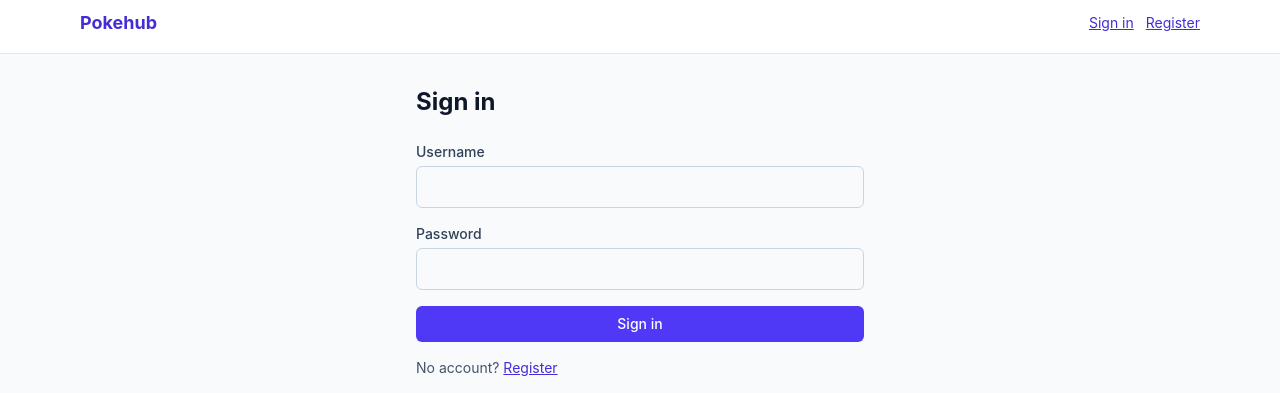
Test: LoginPage › submits valid credentials
This screenshot has width=1280, height=393.
Type "ash" into the field labelled "Username".
click(640, 187); type("ash")  # box [416,166,864,208]
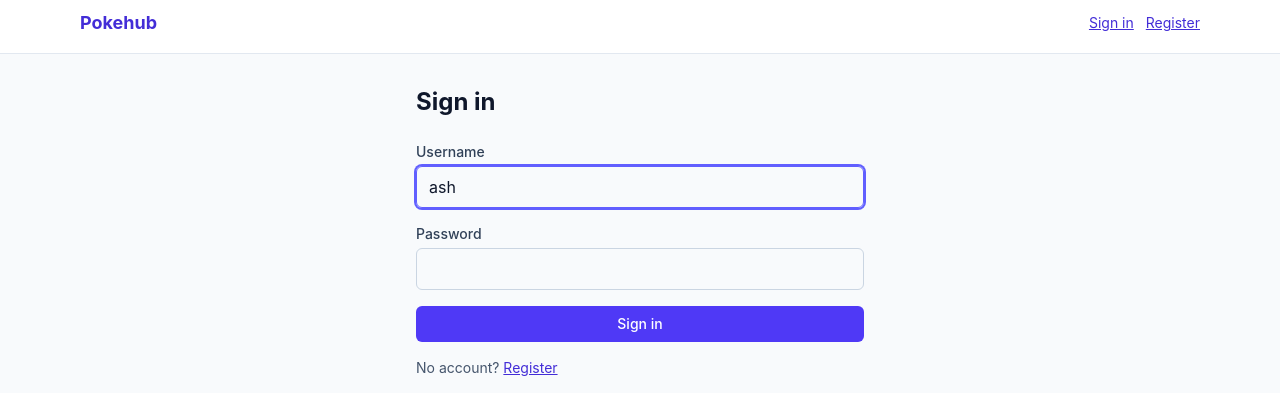
Type "Pikachu1" into the password field labelled "Password".
click(640, 269); type("Pikachu1")  # box [416,248,864,290]
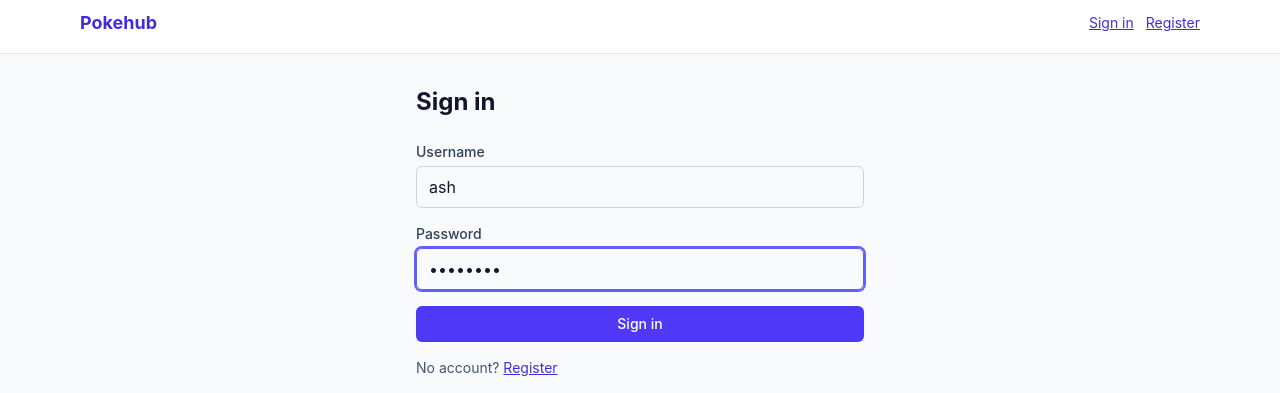
Click the button "Sign in".
click(640, 324)  # box [416,306,864,342]
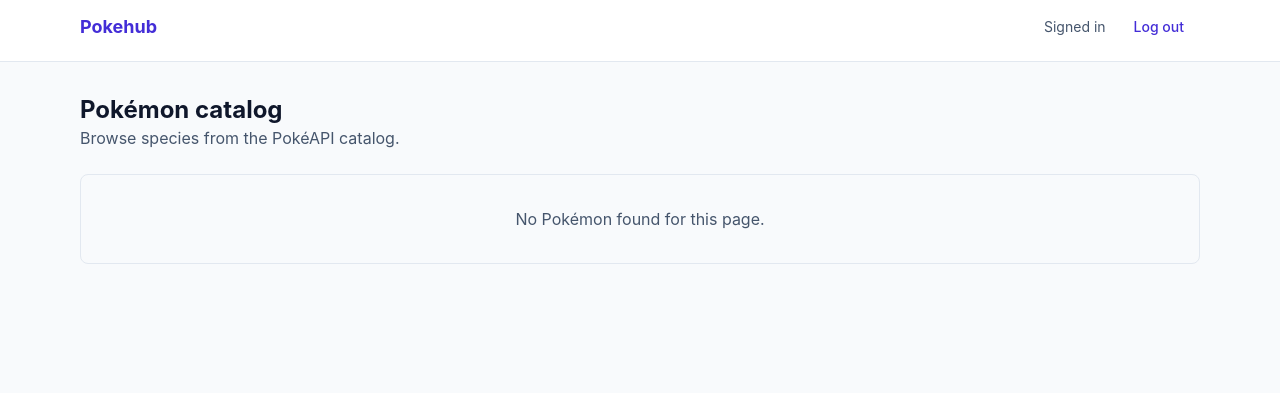
expect the heading "Pokémon catalog" is shown: met, box [80,95,282,124]
